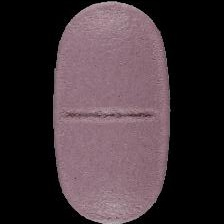43353-854: (0, 0, 224, 224)
